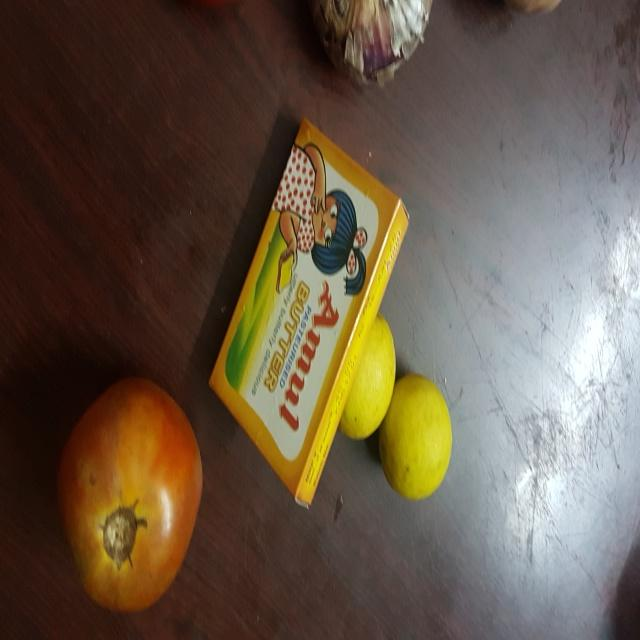butter: (207, 116, 408, 513)
lemon: (387, 373, 456, 508), (332, 315, 399, 441)
tomato: (58, 374, 212, 613)
